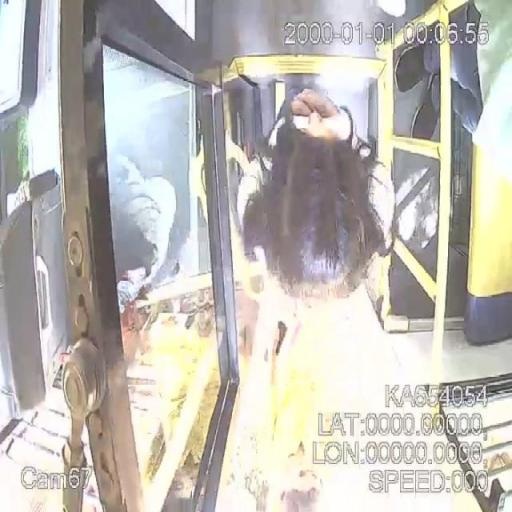persona: (226, 86, 403, 510), (239, 86, 393, 301), (108, 151, 191, 308)
